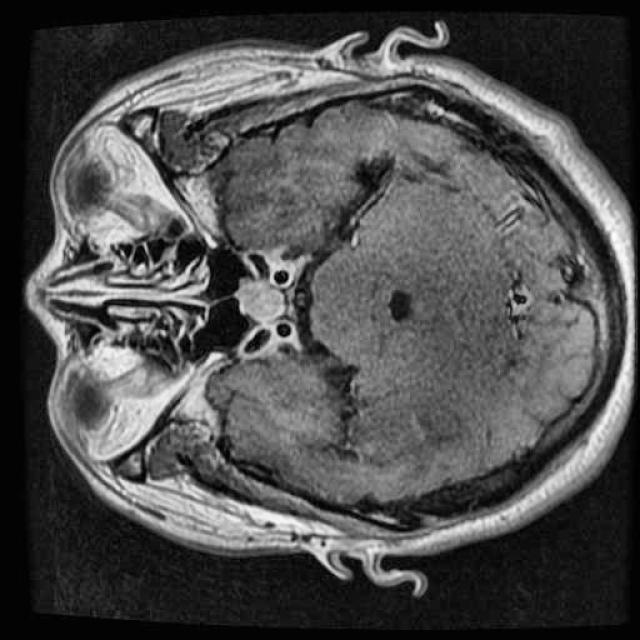Tumor: (228, 262, 302, 332)
